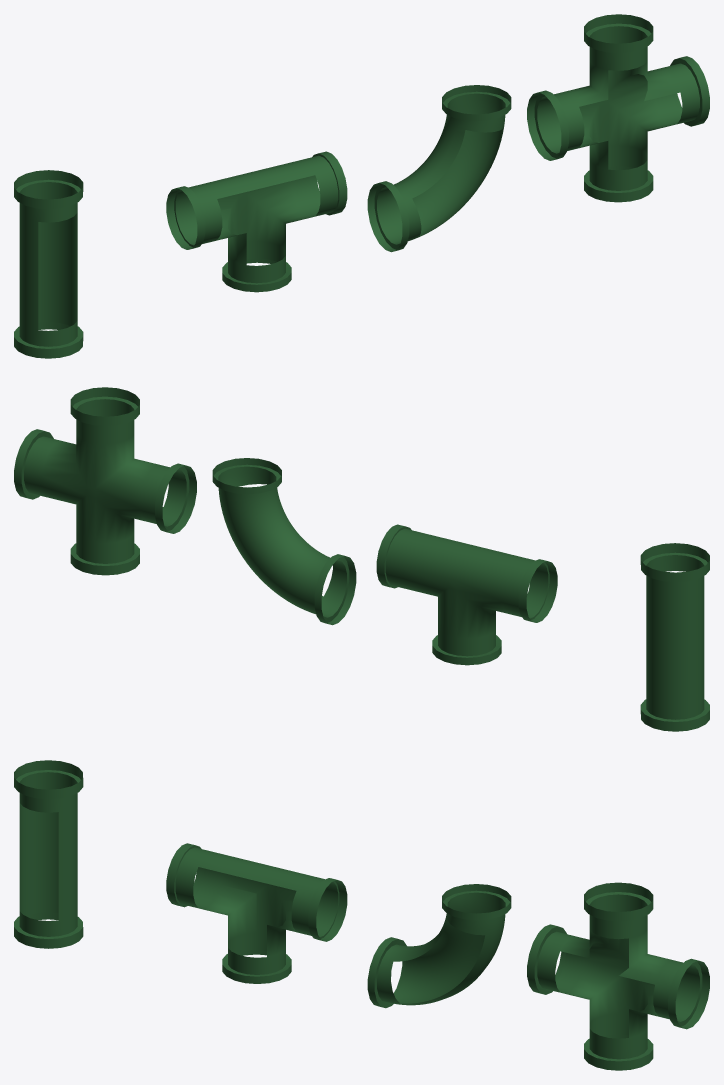
File: tuberias_r002.fbx
3 views of the same model, one above another, from view 1: azimuth 30°, elevation 25°; view 2: azimuth 150°, elevation 25°; view 3: azimuth 330°, elevation 25° (orthographic).
Parts seen in each view (by area): view 1: Object005, Cylinder005, Object006, Object007; view 2: Object005, Cylinder005, Object006, Object007; view 3: Object005, Cylinder005, Object007, Object006.
Part boxes in pixels (x1,y1,x2,y2): Object005: (527, 14, 709, 202); Cylinder005: (166, 151, 347, 292); Object006: (367, 85, 511, 252); Object007: (14, 170, 83, 358); Object005: (14, 387, 196, 575); Cylinder005: (376, 524, 557, 665); Object006: (212, 458, 356, 625); Object007: (640, 543, 709, 731); Object005: (527, 882, 709, 1070); Cylinder005: (166, 843, 347, 983); Object007: (14, 760, 83, 948); Object006: (367, 884, 511, 1008).
Size of the model in its own units: 11.12 by 2.77 by 0.9902.
